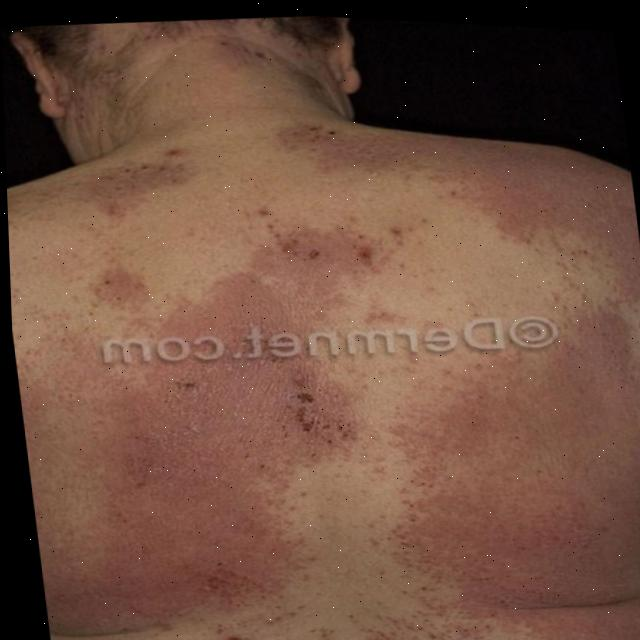Eczema: (13, 137, 640, 640), (215, 29, 285, 66)
